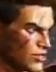kevin: (4, 0, 51, 69)
